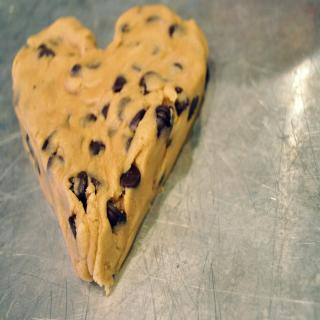Cookie: (10, 1, 209, 295)
